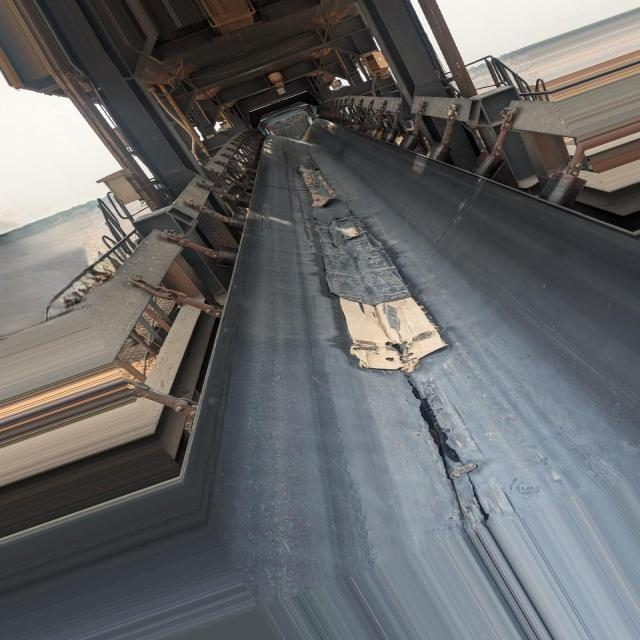Tear: (404, 374, 464, 522), (459, 468, 494, 521)
